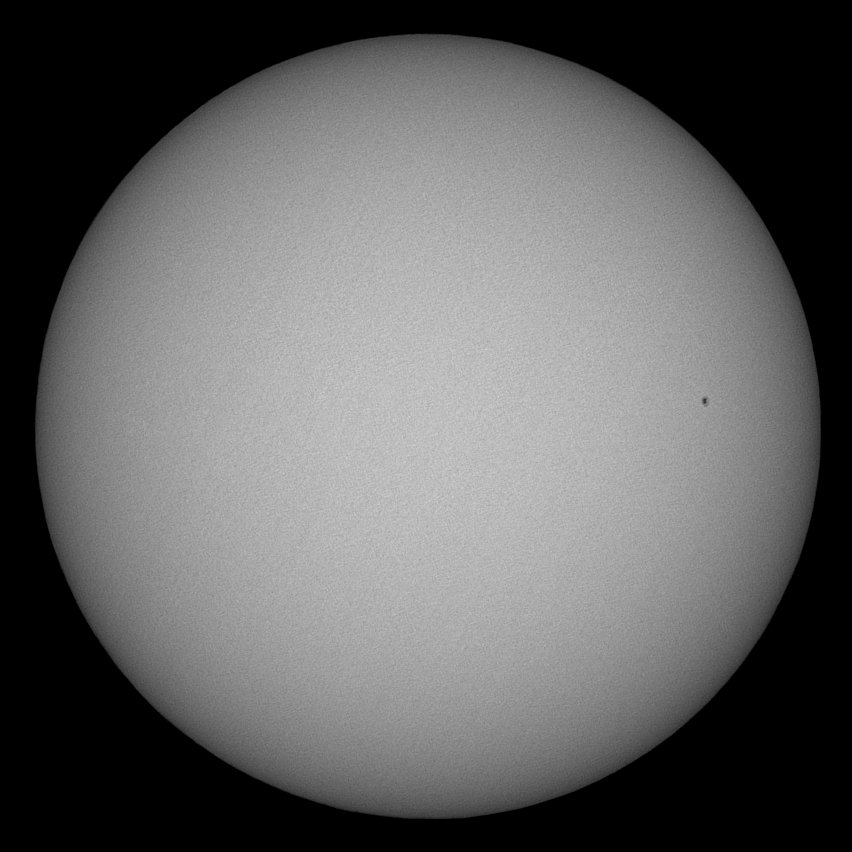sunspot: (697, 390, 713, 410)
